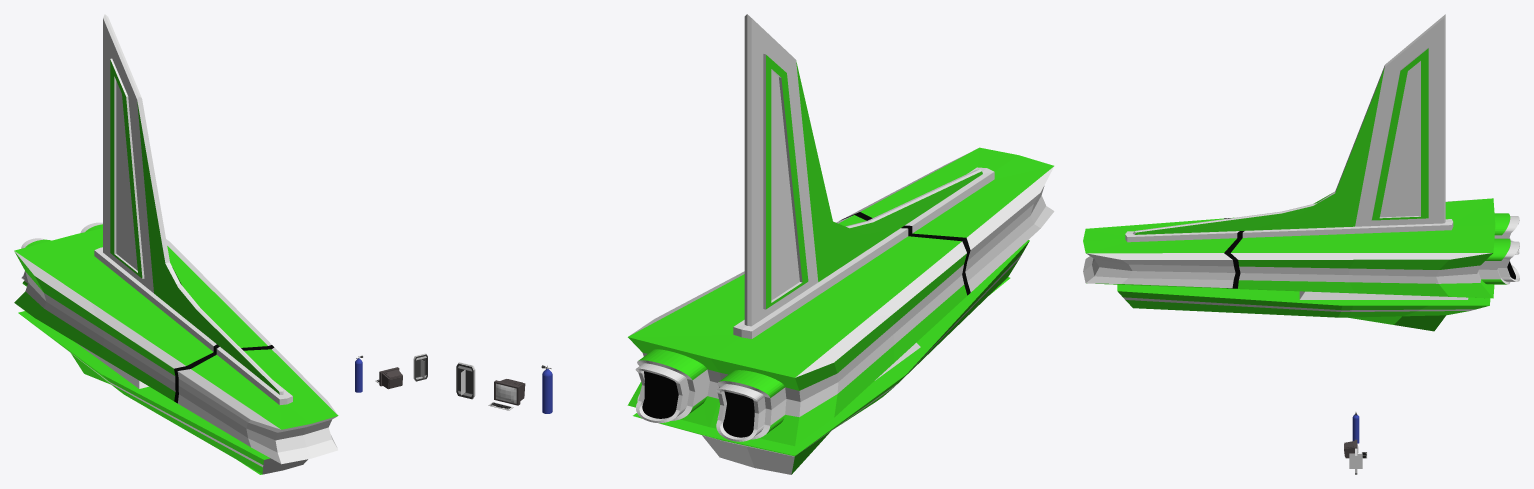
The model's file is oxygen.fbx.
3 views of the same model, side by side, from view 1: azimuth 30°, elevation 25°; view 2: azimuth 150°, elevation 25°; view 3: azimuth 270°, elevation 25° (orthographic). The views are drawn at different scales.
Visible parts, largest first — view 1: Cube.004, Cube.005, Cube.001; view 2: Cube.004, Cube.005, Cube.001; view 3: Cube.004, Cube.005.
Part boxes in pixels (x1=…): Cube.004: x1=14, y1=222, x2=338, y2=474; Cube.005: x1=103, y1=14, x2=283, y2=394; Cube.001: x1=379, y1=367, x2=402, y2=389; Cube.004: x1=627, y1=147, x2=1054, y2=474; Cube.005: x1=744, y1=14, x2=982, y2=326; Cube.001: x1=494, y1=379, x2=525, y2=405; Cube.004: x1=1083, y1=198, x2=1519, y2=331; Cube.005: x1=1133, y1=14, x2=1445, y2=234.
Bounding box in the file's own units: 5171 × 5722 × 6563.
